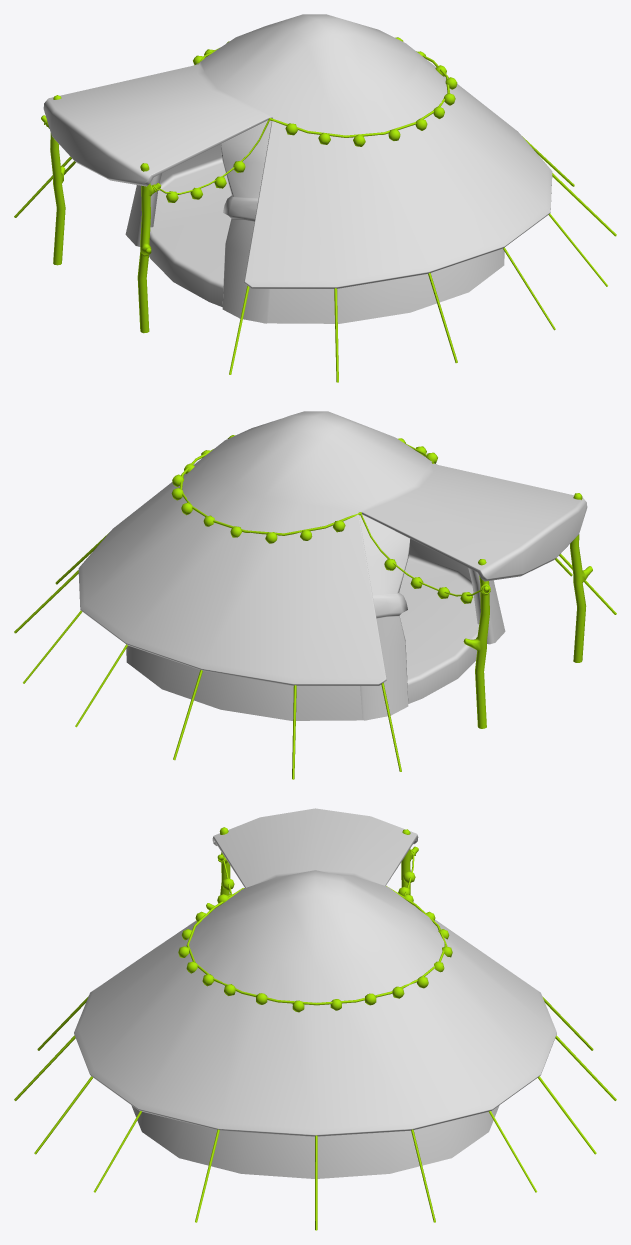
The model's file is tente.fbx.
3 renders of one model, top to bottom at view 1: azimuth 30°, elevation 25°; view 2: azimuth 150°, elevation 25°; view 3: azimuth 270°, elevation 25°, orthographic.
Visible parts, largest first — view 1: polySurface4, polySurface3, polySurface2, pCube31, pCube32, pTorus11, pCube45, pCube33; view 2: polySurface4, polySurface3, polySurface2, pCube32, pCube31, pTorus11, pCube45; view 3: polySurface4, polySurface3, pTorus11, pCube46, pCube45, pCube38, pCube36, pCube35.
Boxes of the visible parts, x1,y1,x2,y2 form: polySurface4: [43, 14, 552, 288]; polySurface3: [149, 144, 504, 323]; polySurface2: [125, 120, 271, 323]; pCube31: [137, 163, 161, 333]; pCube32: [41, 95, 65, 265]; pTorus11: [197, 48, 449, 137]; pCube45: [193, 41, 400, 146]; pCube33: [14, 156, 249, 374]; polySurface4: [78, 411, 587, 685]; polySurface3: [126, 539, 479, 720]; polySurface2: [359, 514, 505, 720]; pCube32: [463, 559, 490, 728]; pCube31: [570, 493, 592, 662]; pTorus11: [179, 443, 434, 535]; pCube45: [230, 438, 437, 543]; polySurface4: [74, 808, 556, 1136]; polySurface3: [131, 1105, 499, 1178]; pTorus11: [186, 886, 447, 1005]; pCube46: [186, 961, 444, 1005]; pCube45: [178, 894, 452, 957]; pCube38: [195, 1129, 435, 1222]; pCube36: [34, 1076, 596, 1154]; pCube35: [14, 1035, 616, 1100].
Bounding box in the file's own units: 644 × 286 × 675.
